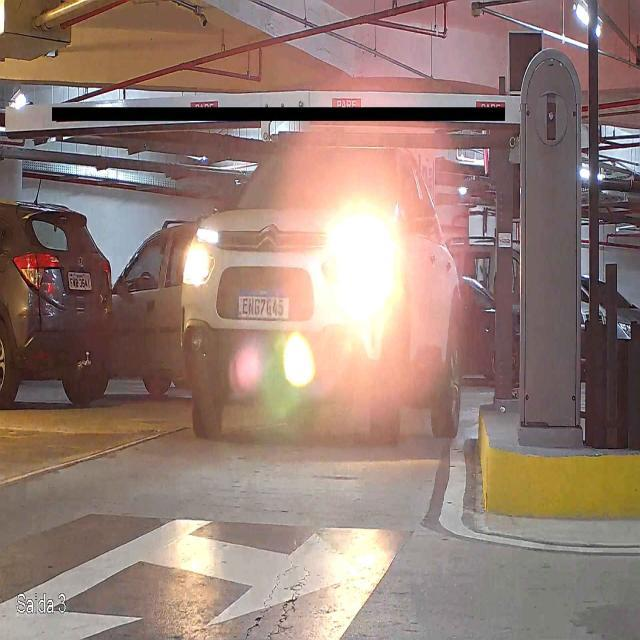mercosul_plate: (234, 288, 292, 322)
